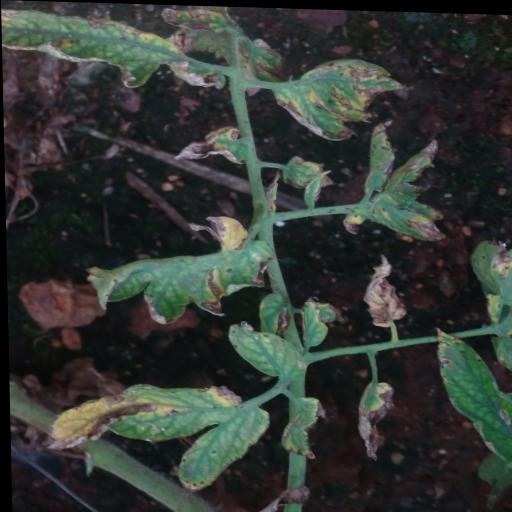Early Blight: (42, 378, 272, 498), (81, 211, 273, 327), (0, 6, 227, 92), (423, 320, 512, 482), (340, 115, 446, 241), (270, 53, 409, 142), (224, 320, 304, 378), (350, 376, 397, 461), (356, 250, 407, 327), (274, 392, 329, 461), (172, 122, 251, 166)
